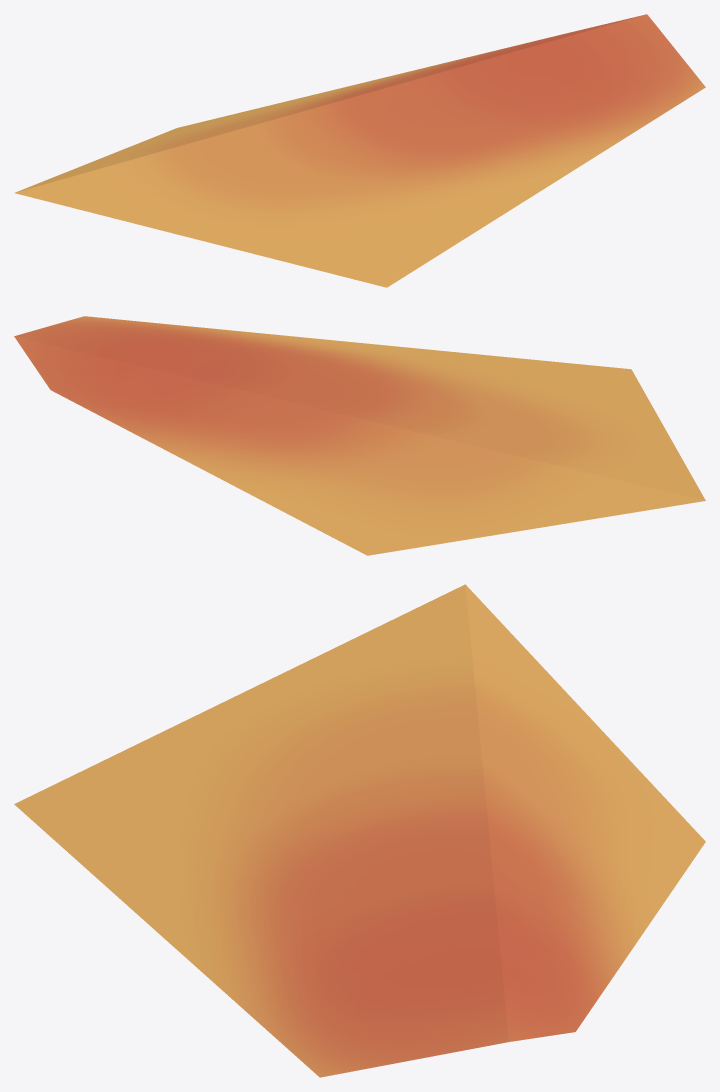
The model's file is Feuille.glb.
3 renders of one model, top to bottom at view 1: azimuth 30°, elevation 25°; view 2: azimuth 150°, elevation 25°; view 3: azimuth 270°, elevation 25°, orthographic. The views are drawn at different scales.
Visible parts, largest first — view 1: leaf.002; view 2: leaf.002; view 3: leaf.002.
Part boxes in pixels (x1,y1,x2,y2): leaf.002: (14, 14, 705, 287); leaf.002: (14, 316, 705, 555); leaf.002: (14, 584, 705, 1077).
Bounding box in the file's own units: 0.6694 × 0.0625 × 0.4138.
1 material, 1 textured.
